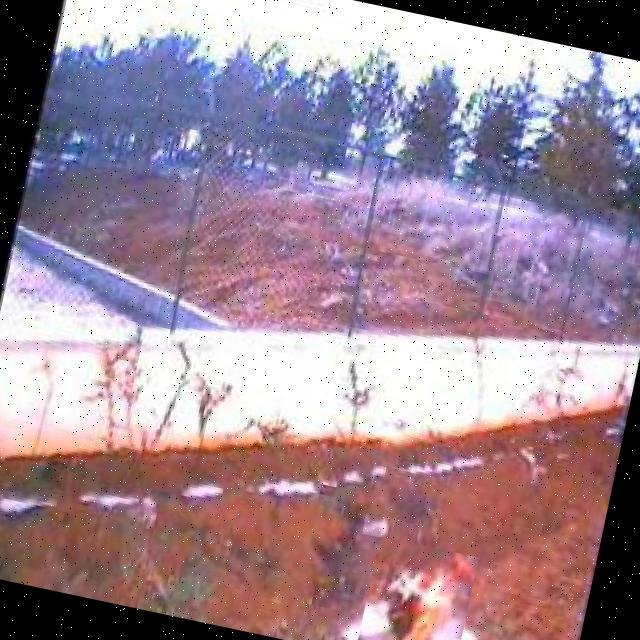fire: (356, 536, 478, 640)
